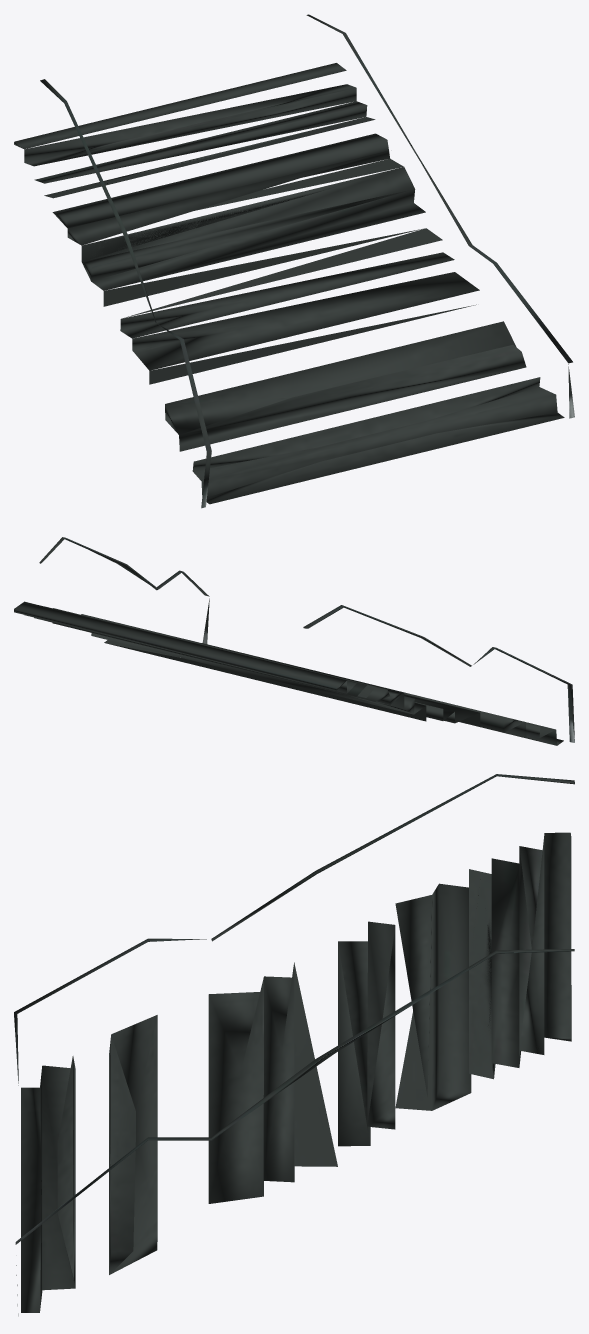
The picture shows the model from 3 angles, top to bottom: view 1: azimuth 30°, elevation 25°; view 2: azimuth 150°, elevation 25°; view 3: azimuth 270°, elevation 25°; orthographic projection. The views are drawn at different scales.
Bounding box in the file's own units: 3 × 2 × 3.
1 material, 1 textured.
